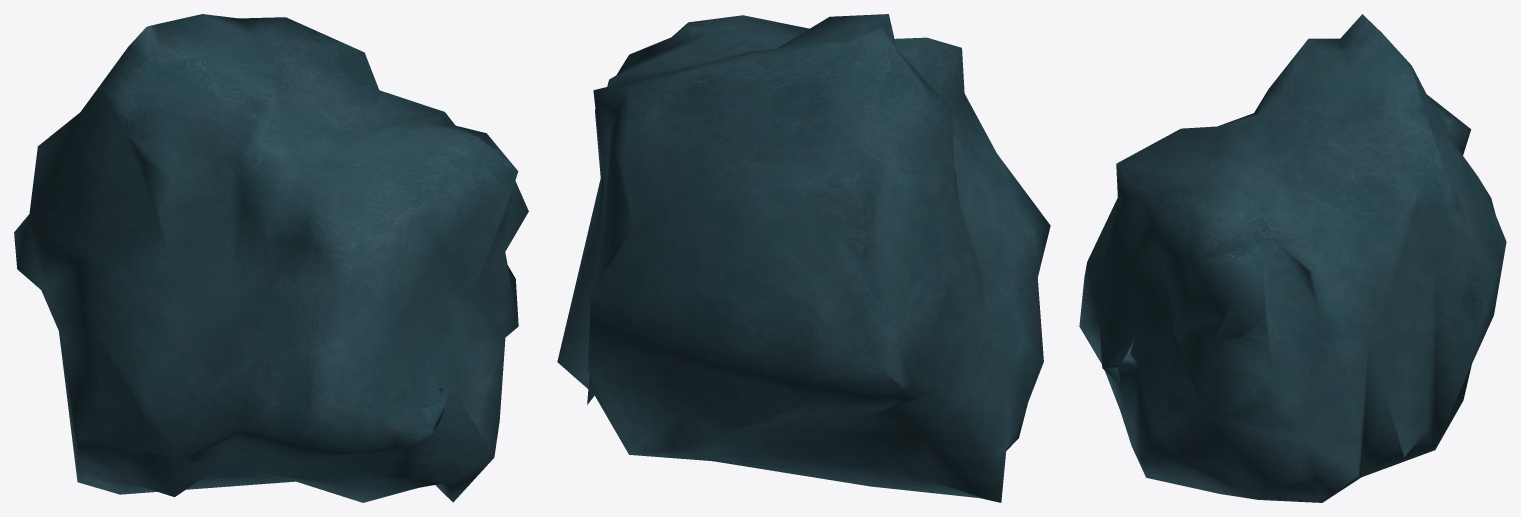
The model's file is Rock v2-DhLkeu7m.glb.
The picture shows the model from 3 angles, left to right: view 1: azimuth 30°, elevation 25°; view 2: azimuth 150°, elevation 25°; view 3: azimuth 270°, elevation 25°; orthographic projection. The views are drawn at different scales.
Parts seen in each view (by area): view 1: tripo_node_bda420c5-dbdd-4ffa-8eed-af8866902489; view 2: tripo_node_bda420c5-dbdd-4ffa-8eed-af8866902489; view 3: tripo_node_bda420c5-dbdd-4ffa-8eed-af8866902489.
Boxes of the visible parts, x1,y1,x2,y2 form: tripo_node_bda420c5-dbdd-4ffa-8eed-af8866902489: (14, 14, 528, 502); tripo_node_bda420c5-dbdd-4ffa-8eed-af8866902489: (557, 14, 1050, 502); tripo_node_bda420c5-dbdd-4ffa-8eed-af8866902489: (1079, 14, 1506, 502).
Size of the model in its own units: 0.9601 by 1 by 0.9894.
Materials: 1 (1 with a texture image).
